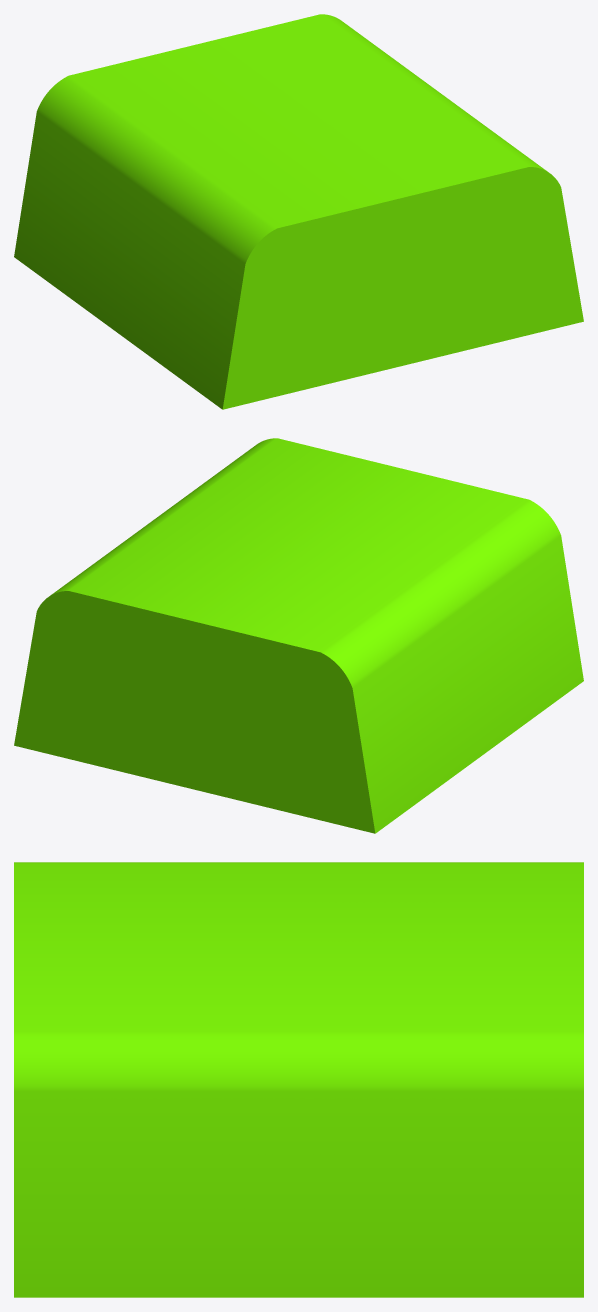
The model's file is original-95.obj.
3 views of the same model, one above another, from view 1: azimuth 30°, elevation 25°; view 2: azimuth 150°, elevation 25°; view 3: azimuth 270°, elevation 25° (orthographic). The views are drawn at different scales.
Parts seen in each view (by area): view 1: Group_1_68/Group_1/mesh1/mesh1-geometry#mesh1-geometry; view 2: Group_1_68/Group_1/mesh1/mesh1-geometry#mesh1-geometry; view 3: Group_1_68/Group_1/mesh1/mesh1-geometry#mesh1-geometry.
Part boxes in pixels (x1,y1,x2,y2): Group_1_68/Group_1/mesh1/mesh1-geometry#mesh1-geometry: [14, 14, 583, 409]; Group_1_68/Group_1/mesh1/mesh1-geometry#mesh1-geometry: [14, 438, 583, 833]; Group_1_68/Group_1/mesh1/mesh1-geometry#mesh1-geometry: [14, 862, 583, 1297].
Size of the model in its own units: 0.0524 by 0.0233 by 0.0524.
